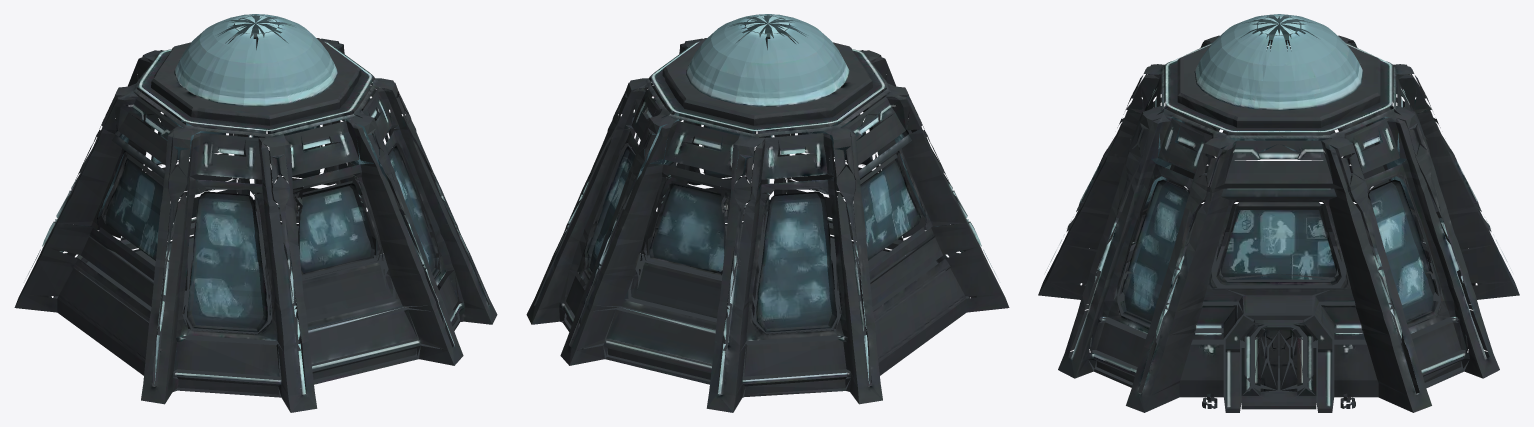
File: ops_center_LOD1.glb
The picture shows the model from 3 angles, left to right: view 1: azimuth 30°, elevation 25°; view 2: azimuth 150°, elevation 25°; view 3: azimuth 270°, elevation 25°; orthographic projection. The views are drawn at different scales.
Visible parts, largest first — view 1: ops_center_LOD1; view 2: ops_center_LOD1; view 3: ops_center_LOD1.
Boxes of the visible parts, x1,y1,x2,y2 form: ops_center_LOD1: (14, 14, 497, 412); ops_center_LOD1: (526, 14, 1009, 412); ops_center_LOD1: (1038, 14, 1519, 412).
Bounding box in the file's own units: 0.88 × 0.6799 × 0.9927.
1 material, 1 textured.
